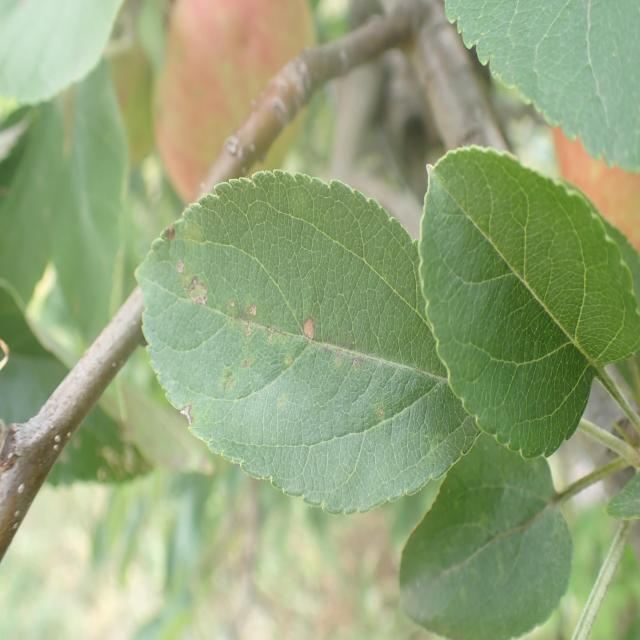frog-eye-leaf-spot: (133, 168, 482, 516)
